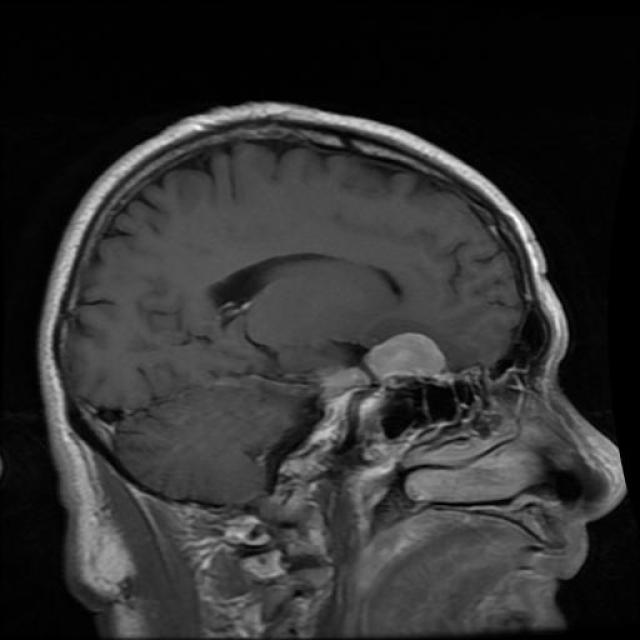meningioma: (358, 314, 444, 370)
